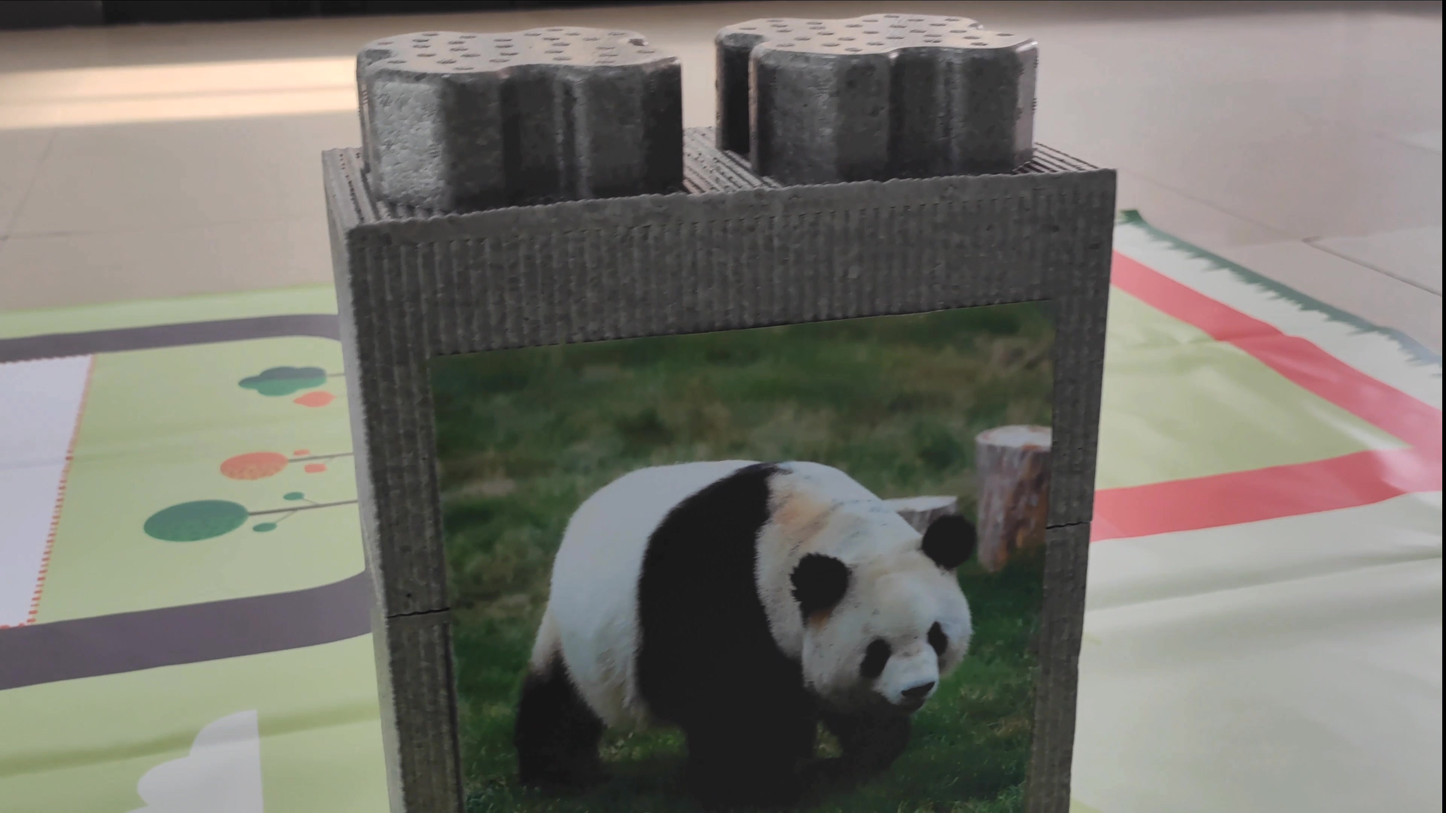panda: (467, 406, 1010, 813)
